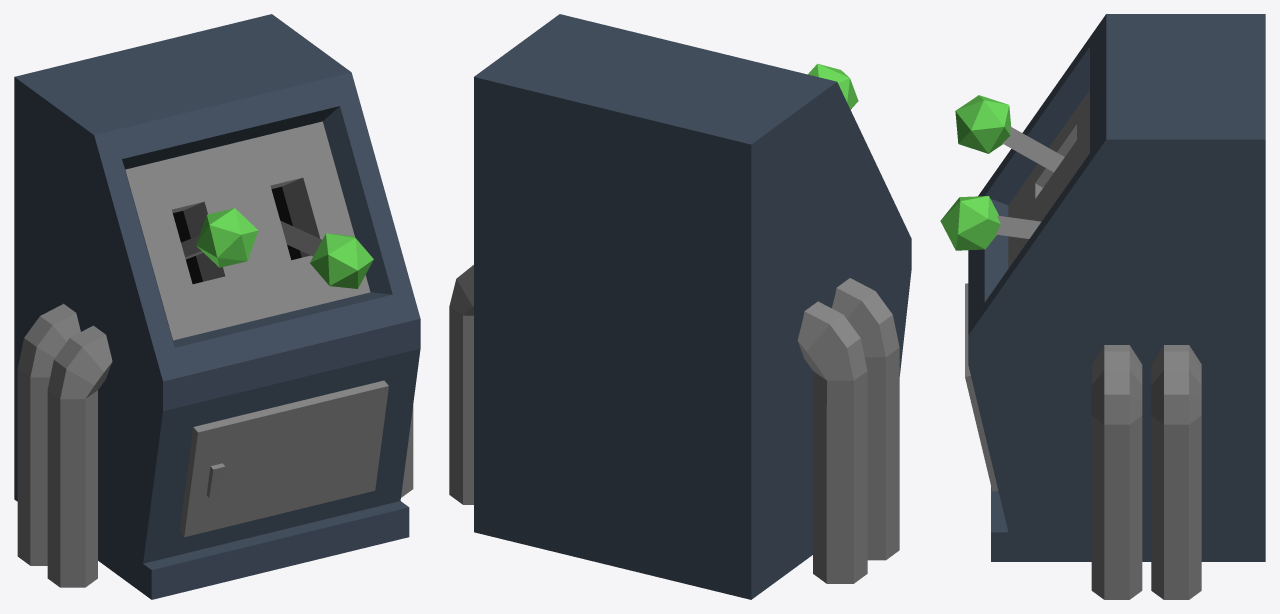
Rendered from turret_control 1.fbx.
The picture shows the model from 3 angles, left to right: view 1: azimuth 30°, elevation 25°; view 2: azimuth 150°, elevation 25°; view 3: azimuth 270°, elevation 25°; orthographic projection. The views are drawn at different scales.
Parts seen in each view (by area): view 1: Cube.001; view 2: Cube.001; view 3: Cube.001.
Boxes of the visible parts, bbox=[...] form: Cube.001: bbox=[14, 14, 420, 599]; Cube.001: bbox=[449, 14, 911, 599]; Cube.001: bbox=[940, 14, 1265, 599].
Bounding box in the file's own units: 378 × 428 × 292.
